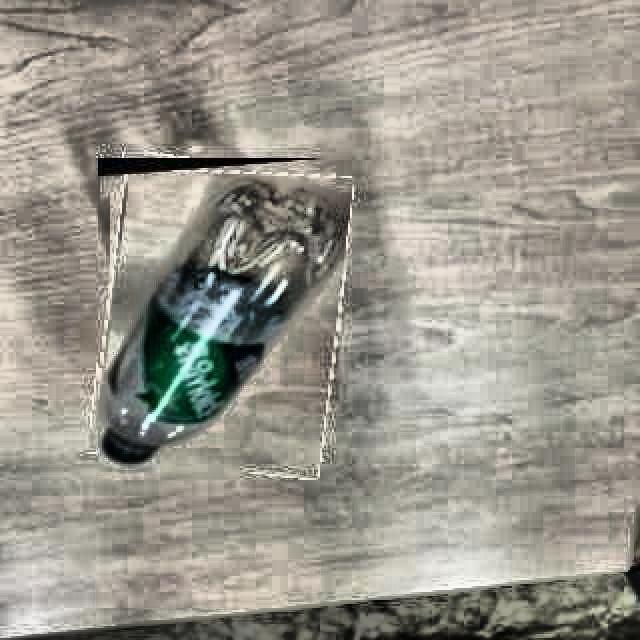Anorganik: (96, 156, 346, 472)
